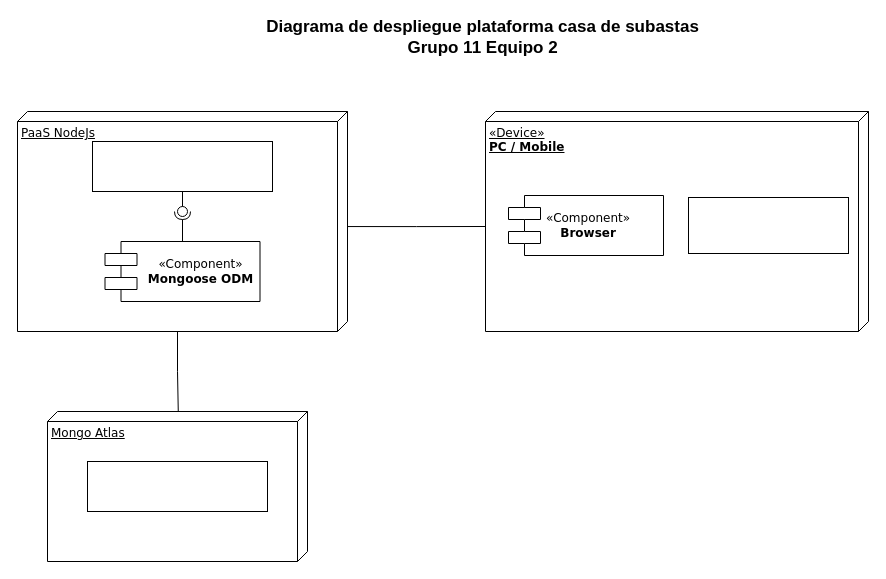
Some shapes in this 886 by 579 pixel diagram are drawn without their labels. The shapes that lost their labels are listed below. From the top down, each one's centre as x and y in pixels, then its label:
At (x=182, y=166): "«artifact» BackEnd Express".
At (x=768, y=225): "«FrontEnd» ReactJs".
At (x=177, y=486): "«artifact» MongoDB Equipo2".
